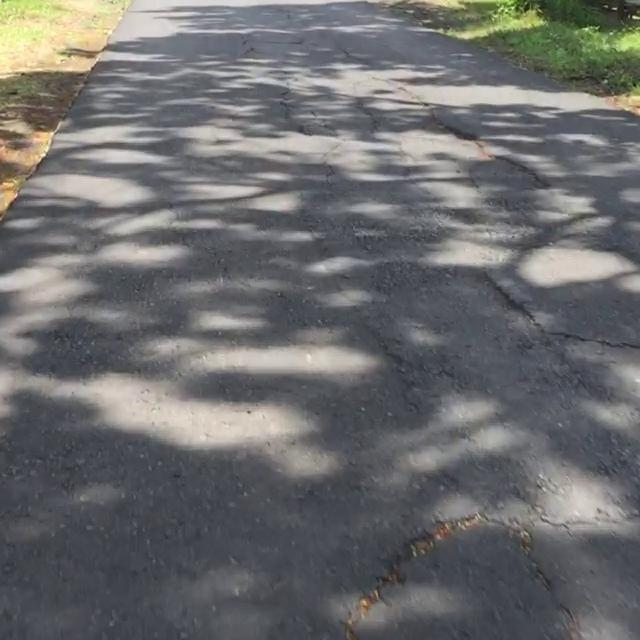retak_memanjang: (280, 498, 537, 640)
